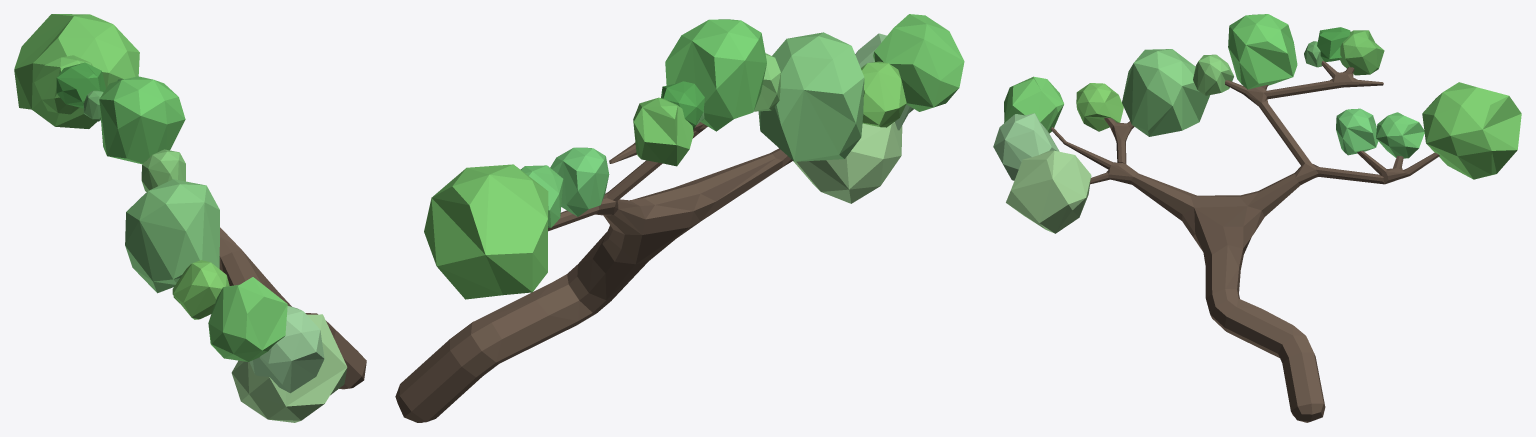
The model's file is MyTree.fbx.
3 renders of one model, left to right at view 1: azimuth 30°, elevation 25°; view 2: azimuth 150°, elevation 25°; view 3: azimuth 270°, elevation 25°, orthographic. The views are drawn at different scales.
Visible parts, largest first — view 1: Icosphere, Icosphere.010, Icosphere.005, Icosphere.002, Icosphere.003, Icosphere.011, Cube, Icosphere.001, Icosphere.012, Icosphere.006, Icosphere.004, Icosphere.007; view 2: Cube, Icosphere.010, Icosphere, Icosphere.005, Icosphere.002, Icosphere.003, Icosphere.006, Icosphere.008, Icosphere.001, Icosphere.012, Icosphere.009, Icosphere.004 (+1 smaller); view 3: Cube, Icosphere.010, Icosphere, Icosphere.003, Icosphere.005, Icosphere.011, Icosphere.002, Icosphere.001, Icosphere.009, Icosphere.008, Icosphere.006, Icosphere.004 (+1 smaller).
Part boxes in pixels (box(x1,y1,x2,y2)): Icosphere: box(125, 179, 219, 293); Icosphere.010: box(14, 14, 139, 128); Icosphere.005: box(99, 76, 185, 164); Icosphere.002: box(208, 277, 287, 361); Icosphere.003: box(231, 314, 347, 422); Icosphere.011: box(249, 305, 324, 393); Cube: box(219, 227, 366, 389); Icosphere.001: box(172, 260, 229, 319); Icosphere.012: box(56, 62, 105, 108); Icosphere.006: box(34, 55, 92, 114); Icosphere.004: box(141, 149, 185, 192); Icosphere.007: box(83, 90, 103, 121); Cube: box(395, 122, 792, 422); Icosphere.010: box(424, 164, 548, 299); Icosphere: box(758, 32, 864, 161); Icosphere.005: box(665, 19, 766, 131); Icosphere.002: box(873, 14, 964, 111); Icosphere.003: box(793, 122, 902, 203); Icosphere.006: box(633, 97, 693, 166); Icosphere.008: box(550, 147, 609, 216); Icosphere.001: box(861, 61, 906, 127); Icosphere.012: box(661, 81, 704, 129); Icosphere.009: box(520, 165, 563, 227); Icosphere.004: box(754, 53, 780, 111); Cube: box(1050, 61, 1439, 422); Icosphere.010: box(1422, 82, 1521, 179); Icosphere: box(1122, 49, 1209, 136); Icosphere.003: box(1006, 150, 1091, 233); Icosphere.005: box(1228, 14, 1297, 89); Icosphere.011: box(993, 113, 1059, 180); Icosphere.002: box(1004, 76, 1063, 133); Icosphere.001: box(1076, 83, 1123, 131); Icosphere.009: box(1376, 112, 1424, 158); Icosphere.008: box(1336, 108, 1378, 155); Icosphere.006: box(1339, 30, 1384, 75); Icosphere.004: box(1193, 54, 1233, 95).
Bounding box in the file's own units: 421 × 481 × 738.
